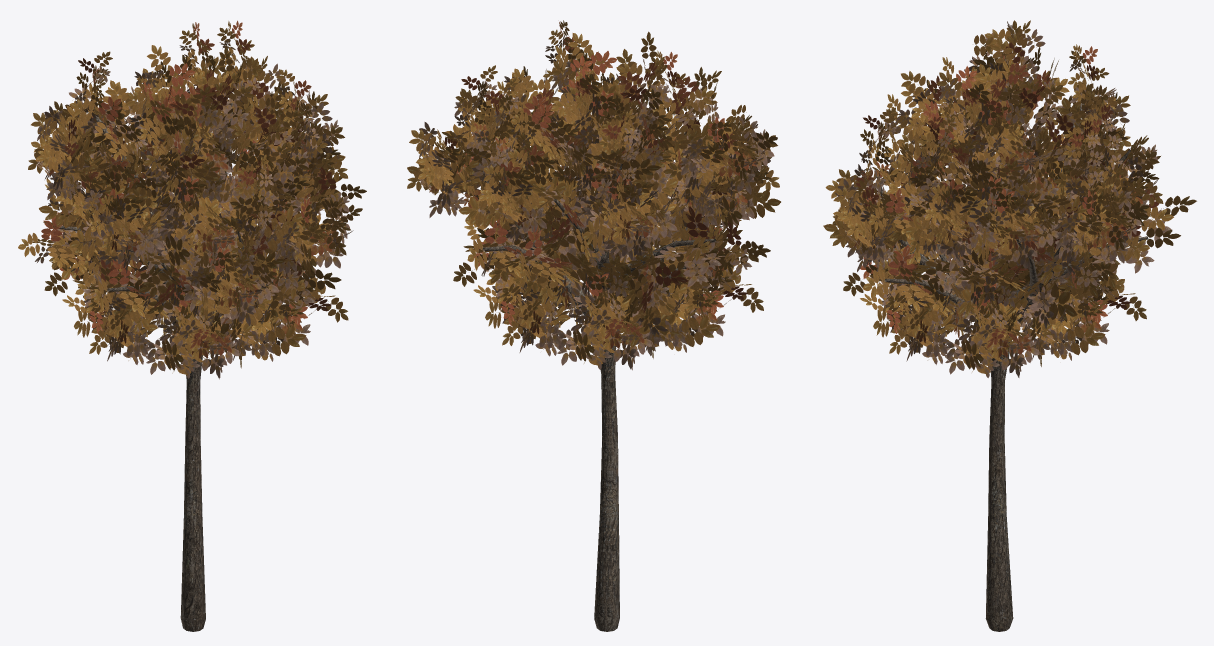
The model's file is low_tree_1.glb.
3 views of the same model, side by side, from view 1: azimuth 30°, elevation 25°; view 2: azimuth 150°, elevation 25°; view 3: azimuth 270°, elevation 25° (orthographic). The views are drawn at different scales.
Visible parts, largest first — view 1: tak002_M_red_0, tak002_M_bark_0; view 2: tak002_M_red_0, tak002_M_bark_0; view 3: tak002_M_red_0, tak002_M_bark_0.
Part boxes in pixels (x1,y1,x2,y2): tak002_M_red_0: (18,20,366,379); tak002_M_bark_0: (59,102,309,631); tak002_M_red_0: (407,20,780,370); tak002_M_bark_0: (476,132,715,631); tak002_M_red_0: (823,20,1196,377); tak002_M_bark_0: (876,103,1148,631).
Size of the model in its own units: 2.47 by 4.15 by 2.53.
2 materials, 2 textured.
